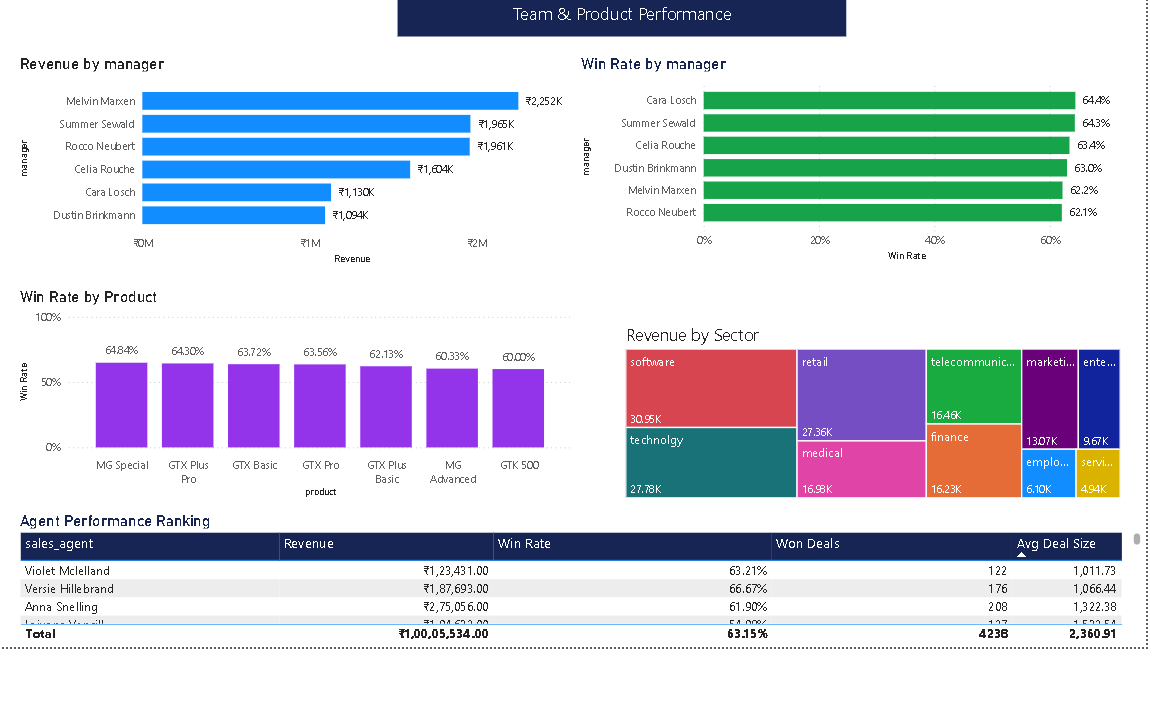

Layout of this report page (visuals, bound fields, positions):
{"tool":"powerbi","page":{"name":"Team & Product Performance","canvas":[1280,720],"ordinal":1},"visuals":[{"type":"textbox","box":[450,0,498.2,43],"z":0},{"type":"clusteredBarChart","fields":{"Y":["sales_pipeline.Revenue"],"Category":["sales_teams.manager"]},"box":[25.9,63.4,623.5,237.6],"z":1000},{"type":"clusteredBarChart","fields":{"Category":["sales_teams.manager"],"Y":["sales_pipeline.Win Rate"]},"box":[648.6,62.9,608.6,234.3],"z":2000},{"type":"clusteredColumnChart","title":"Win Rate by Product","fields":{"Category":["products.product"],"Y":["sales_pipeline.Win Rate"]},"box":[26,322,623,238],"z":3000},{"type":"treemap","title":"Revenue by Sector","fields":{"Group":["accounts.sector"],"Values":["accounts.Total Revenue"]},"box":[698.6,360,558.6,200],"z":4000},{"type":"tableEx","title":"Agent Performance Ranking","fields":{"Values":["sales_teams.sales_agent","sales_pipeline.TRevenue","sales_pipeline.Win Rate","sales_pipeline.Won Deals","sales_pipeline.Avgg Deal Size"]},"box":[25.7,570,1254.3,150],"z":5000}]}

Visuals, with their boxes on the page's 1280x720 design canvas (x1, y1, x2, y2). These are canvas units, not pixel positions in the 1151x702 screenshot, which may show the page scaled, cropped or inside an application window:
textbox: [x1=450, y1=0, x2=948, y2=43]
clusteredBarChart - sales_pipeline.Revenue x sales_teams.manager: [x1=26, y1=63, x2=649, y2=301]
clusteredBarChart - sales_teams.manager x sales_pipeline.Win Rate: [x1=649, y1=63, x2=1257, y2=297]
"Win Rate by Product" clusteredColumnChart: [x1=26, y1=322, x2=649, y2=560]
"Revenue by Sector" treemap: [x1=699, y1=360, x2=1257, y2=560]
"Agent Performance Ranking" tableEx: [x1=26, y1=570, x2=1280, y2=720]
